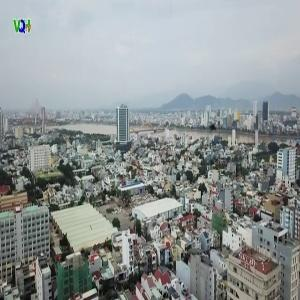drone: (181, 90, 243, 152)
